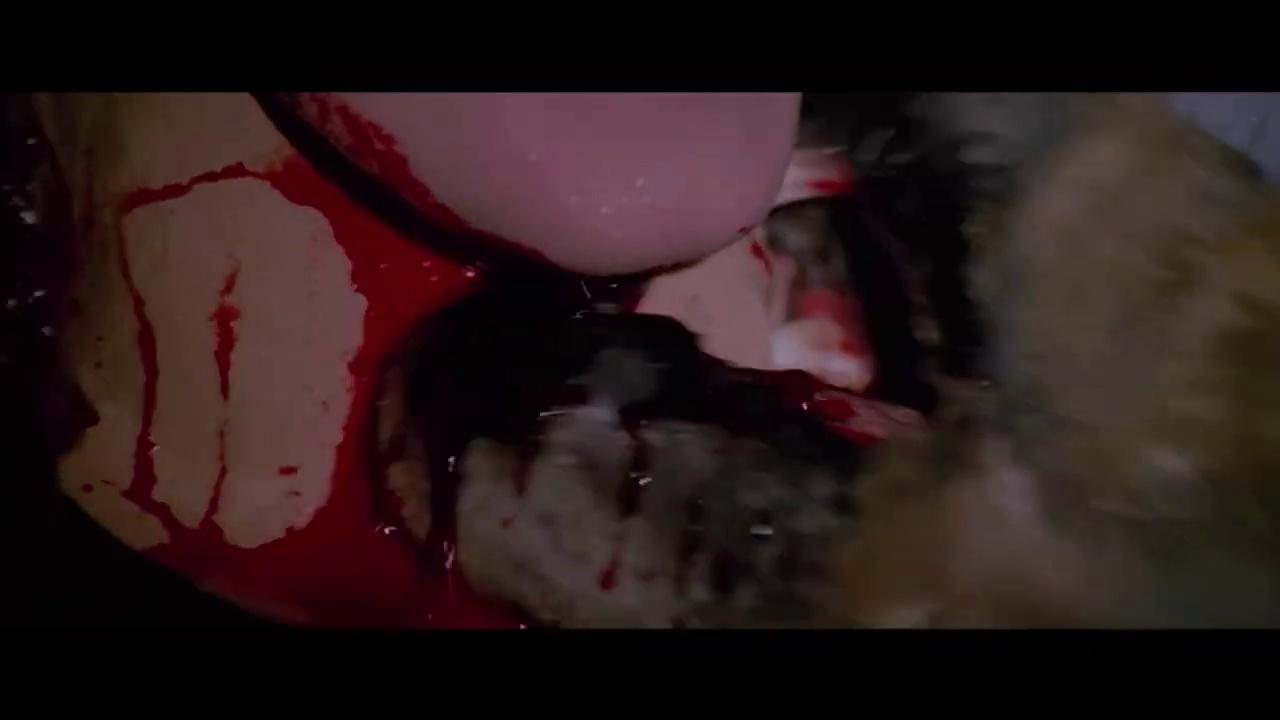Fire: (116, 95, 940, 628)
